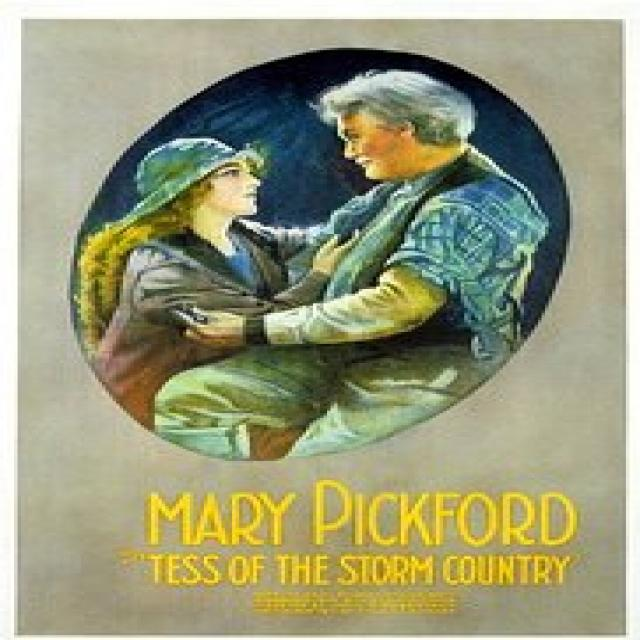movie-judul: (130, 474, 580, 599)
picture: (71, 61, 573, 446)
